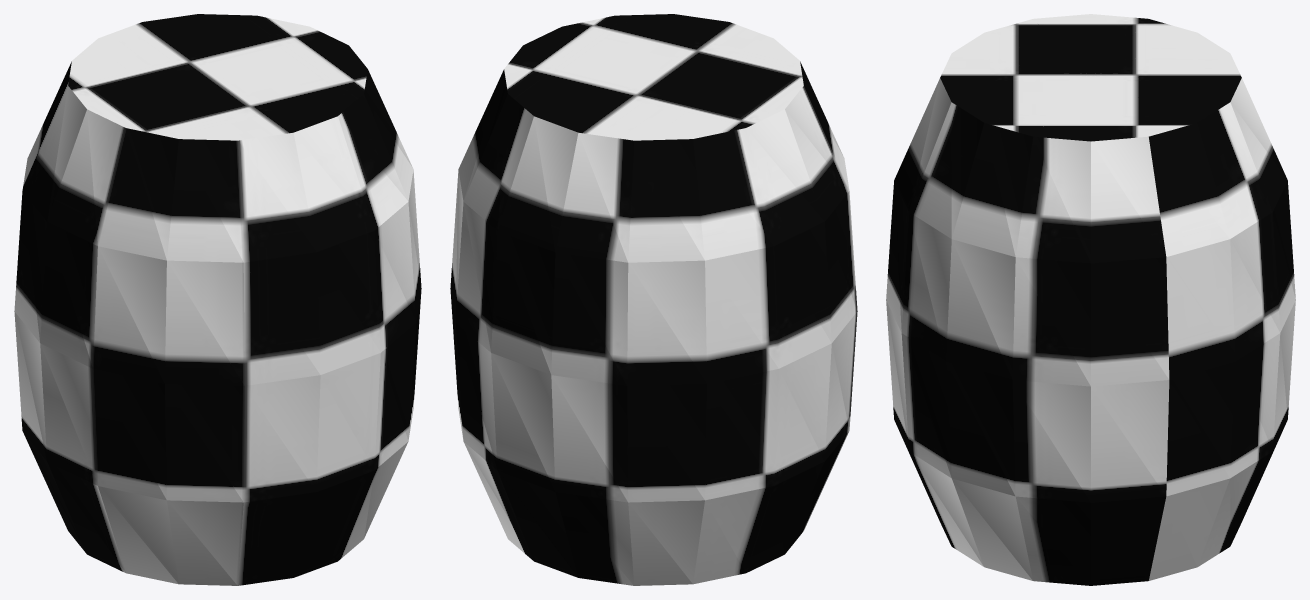
Rendered from barrel_01-2.FBX.
3 views of the same model, side by side, from view 1: azimuth 30°, elevation 25°; view 2: azimuth 150°, elevation 25°; view 3: azimuth 270°, elevation 25° (orthographic).
Visible parts, largest first — view 1: Line001; view 2: Line001; view 3: Line001.
Boxes of the visible parts, x1,y1,x2,y2 form: Line001: (14,14,421,585); Line001: (450,14,857,585); Line001: (886,14,1295,585).
Bounding box in the file's own units: 54.32 × 65 × 54.32.
1 material, 1 textured.
